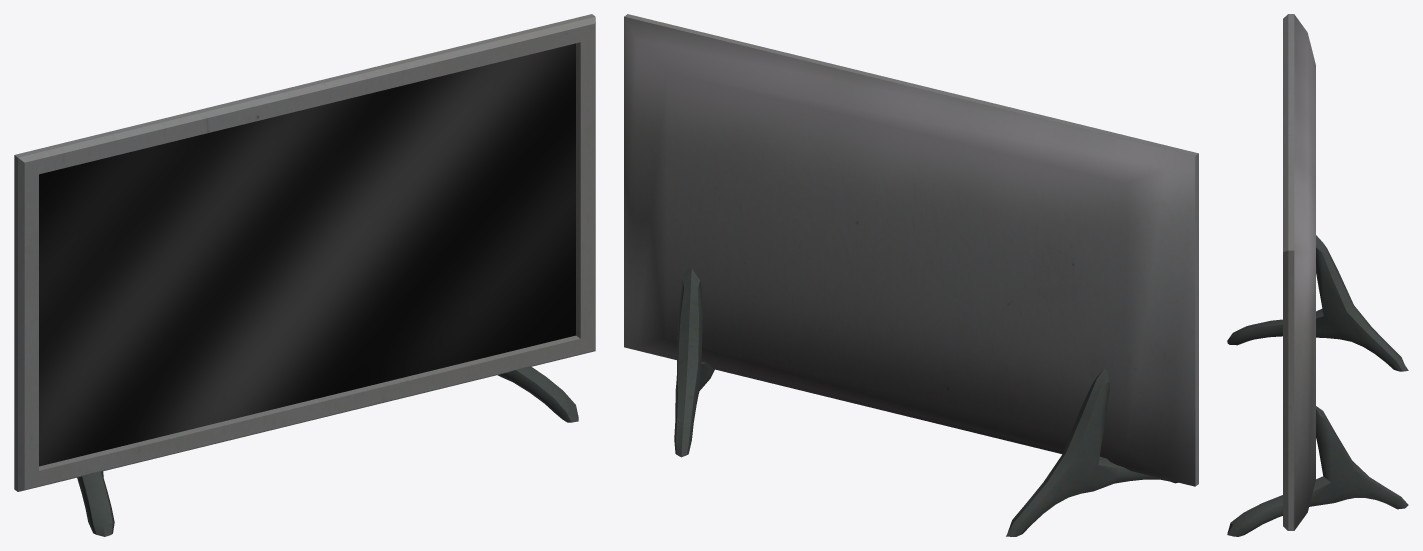
The picture shows the model from 3 angles, left to right: view 1: azimuth 30°, elevation 25°; view 2: azimuth 150°, elevation 25°; view 3: azimuth 270°, elevation 25°; orthographic projection. The views are drawn at different scales.
Parts seen in each view (by area): view 1: _tv; view 2: _tv; view 3: _tv.
Boxes of the visible parts, box(x1,y1,x2,y2) form: _tv: box(14, 14, 595, 536); _tv: box(624, 14, 1198, 536); _tv: box(1227, 14, 1408, 536).
Bounding box in the file's own units: 1.84 × 1.11 × 0.5977.
